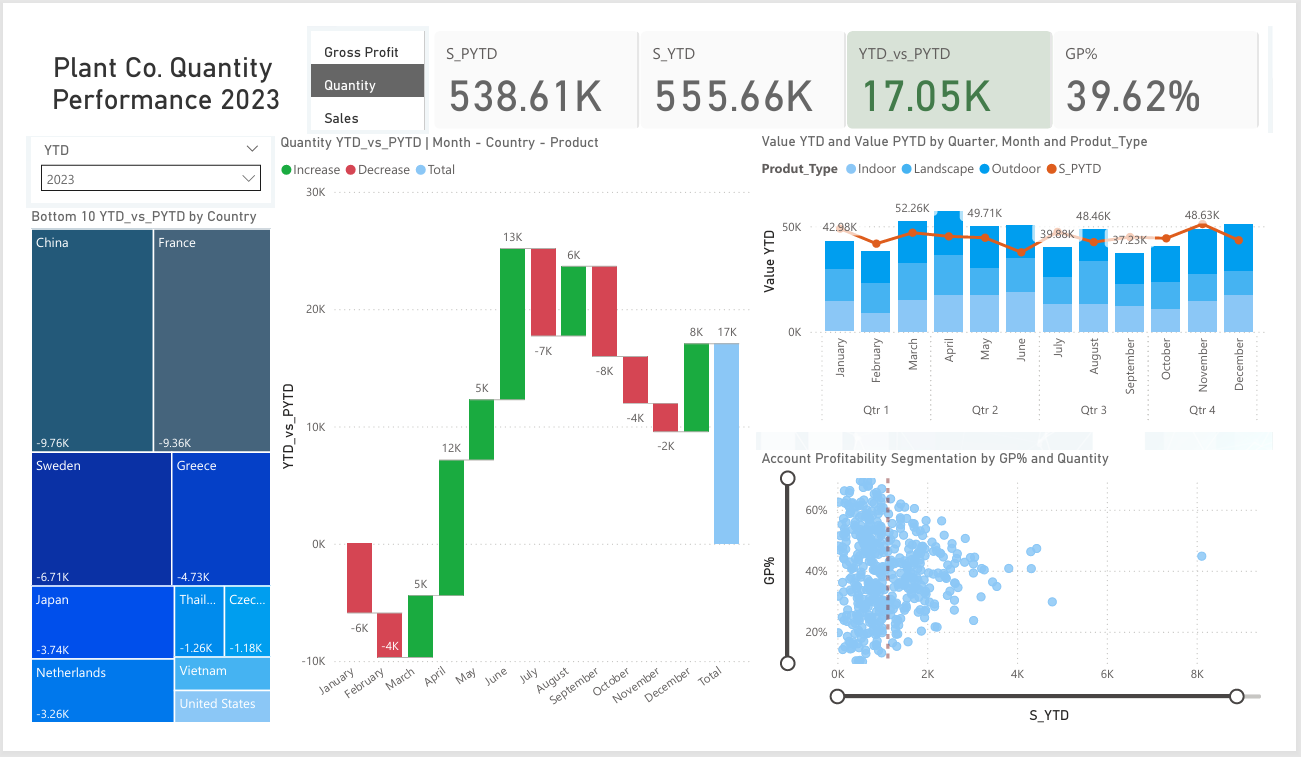

What the dashboard file says about the page in this screenshot:
{"tool":"powerbi","page":{"name":"Performance Report","canvas":[1280,720],"ordinal":0},"visuals":[{"type":"cardVisual","fields":{"Data":["_Measures.S_PYTD","_Measures.S_YTD","_Measures.YTD_vs_PYTD","_Measures.GP%"]},"box":[414.5,0,860.6,110.9],"z":0},{"type":"advancedSlicerVisual","fields":{"Values":["Slc_values.Values"]},"box":[287.7,0,127.4,111.5],"z":1000},{"type":"slicer","fields":{"Values":["Dim_Date.Date.Variation.Date Hierarchy.Year"]},"box":[4.7,114.3,246.4,66.5],"z":2000},{"type":"treemap","title":"Bottom 10 YTD_vs_PYTD by Country","fields":{"Group":["Dim_Accounts.country"],"Values":["_Measures.YTD_vs_PYTD"]},"box":[0,186.9,256,533.6],"z":3000},{"type":"waterfallChart","fields":{"Y":["_Measures.YTD_vs_PYTD"],"Category":["Dim_Date.Date.Variation.Date Hierarchy.Month","Dim_Accounts.country","Dim_Product.Product_Name","Dim_Product.Produt_Type"]},"box":[256,110.9,493.7,609.5],"z":4000},{"type":"lineStackedColumnComboChart","title":"Value YTD and Value PYTD by Quarter, Month and Produt_Type","fields":{"Category":["Dim_Date.Date.Variation.Date Hierarchy.Quarter","Dim_Date.Date.Variation.Date Hierarchy.Month"],"Y":["_Measures.S_YTD"],"Y2":["_Measures.S_PYTD"],"Series":["Dim_Product.Produt_Type"]},"box":[749.9,110.5,530.1,305.4],"z":5000},{"type":"scatterChart","fields":{"X":["_Measures.S_YTD"],"Y":["_Measures.GP%"],"Category":["Dim_Accounts.Account"]},"box":[749.9,434.5,530.1,285.5],"z":6000},{"type":"card","fields":{"Values":["_Measures._Report_Title"]},"box":[0,0,287.7,111.5],"z":7000}]}

Visuals, with their boxes on the page's 1280x720 design canvas (x1, y1, x2, y2). These are canvas units, not pixel positions in the 1301x757 screenshot, which may show the page scaled, cropped or inside an application window:
cardVisual - _Measures.S_PYTD x _Measures.S_YTD: BBox(414, 0, 1275, 111)
advancedSlicerVisual - Slc_values.Values: BBox(288, 0, 415, 112)
slicer - Dim_Date.Date.Variation.Date Hierarchy.Year: BBox(5, 114, 251, 181)
"Bottom 10 YTD_vs_PYTD by Country" treemap: BBox(0, 187, 256, 720)
waterfallChart - _Measures.YTD_vs_PYTD x Dim_Date.Date.Variation.Date Hierarchy.Month: BBox(256, 111, 750, 720)
"Value YTD and Value PYTD by Quarter, Month and Produt_Type" lineStackedColumnComboChart: BBox(750, 110, 1280, 416)
scatterChart - _Measures.S_YTD x _Measures.GP%: BBox(750, 434, 1280, 720)
card - _Measures._Report_Title: BBox(0, 0, 288, 112)
